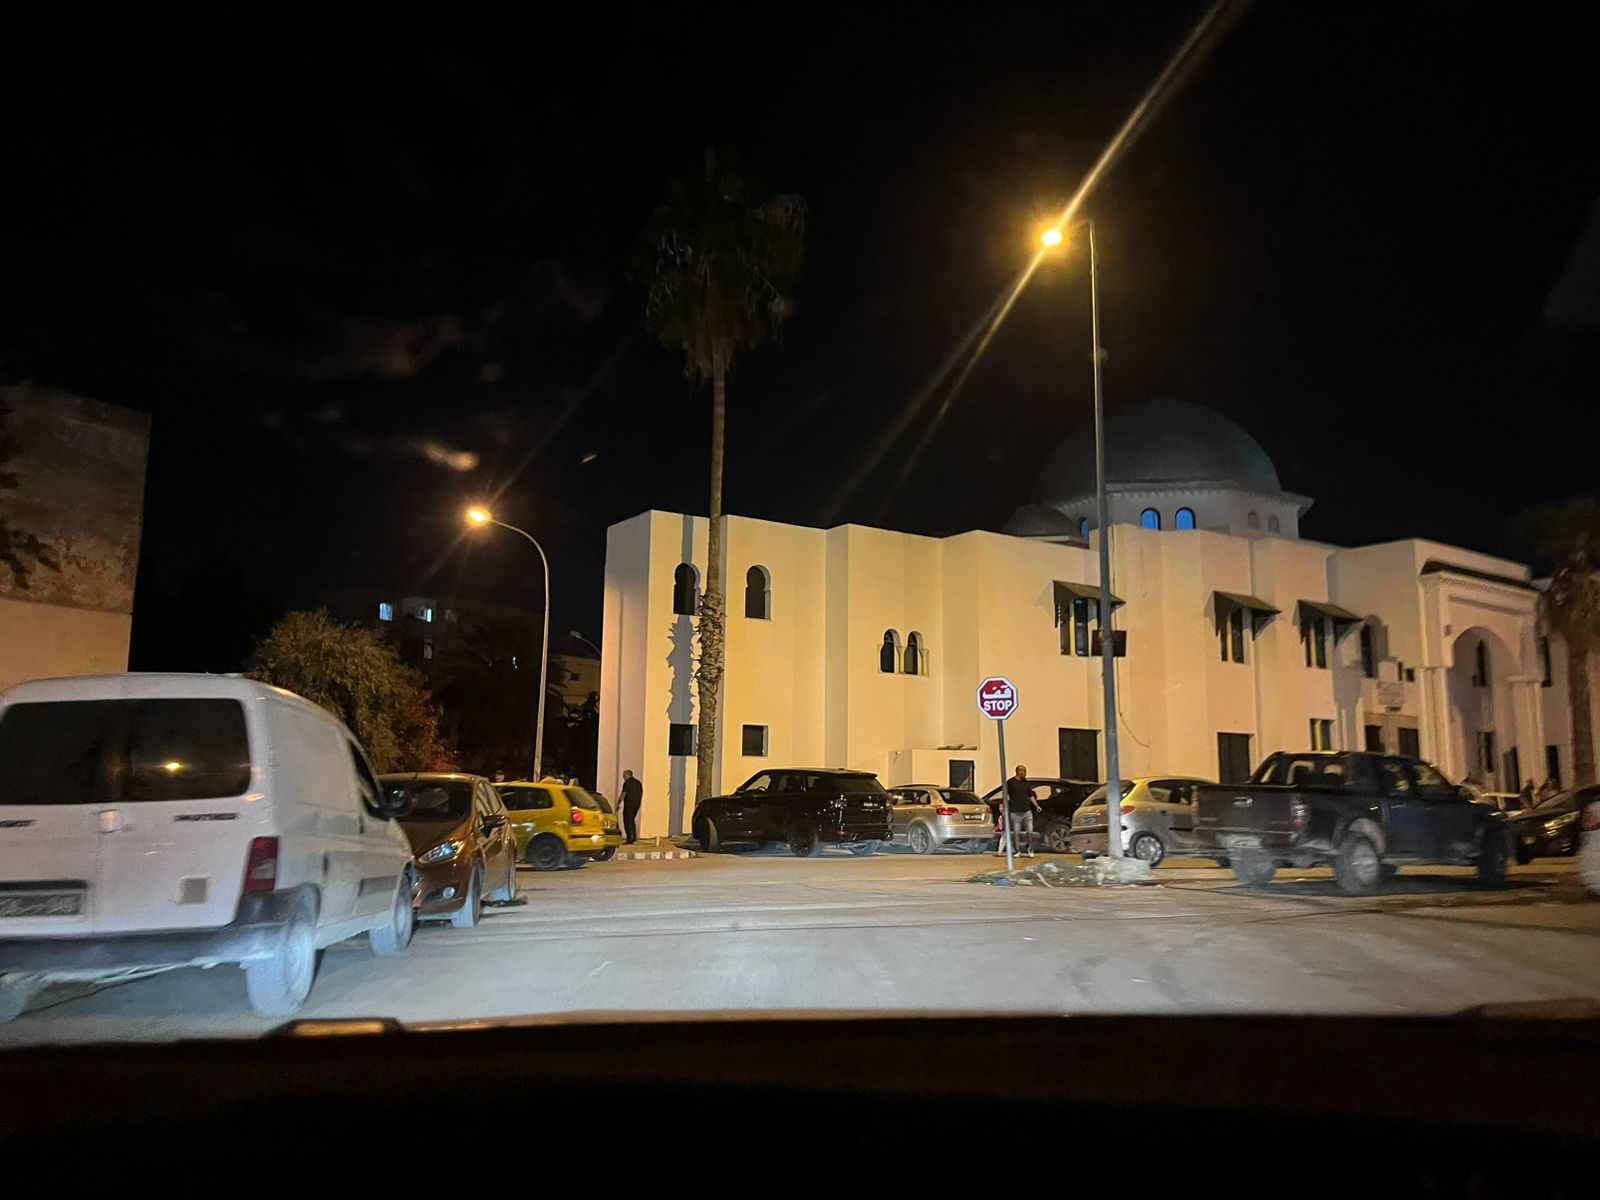Stop: (976, 677, 1019, 720)
